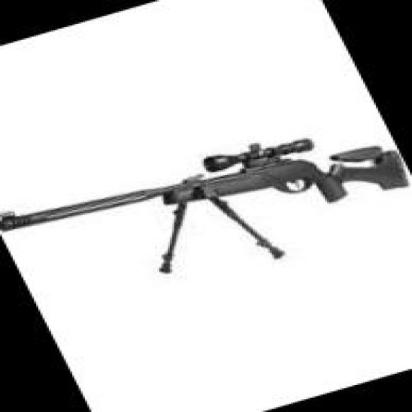Gun: (0, 136, 412, 234)
